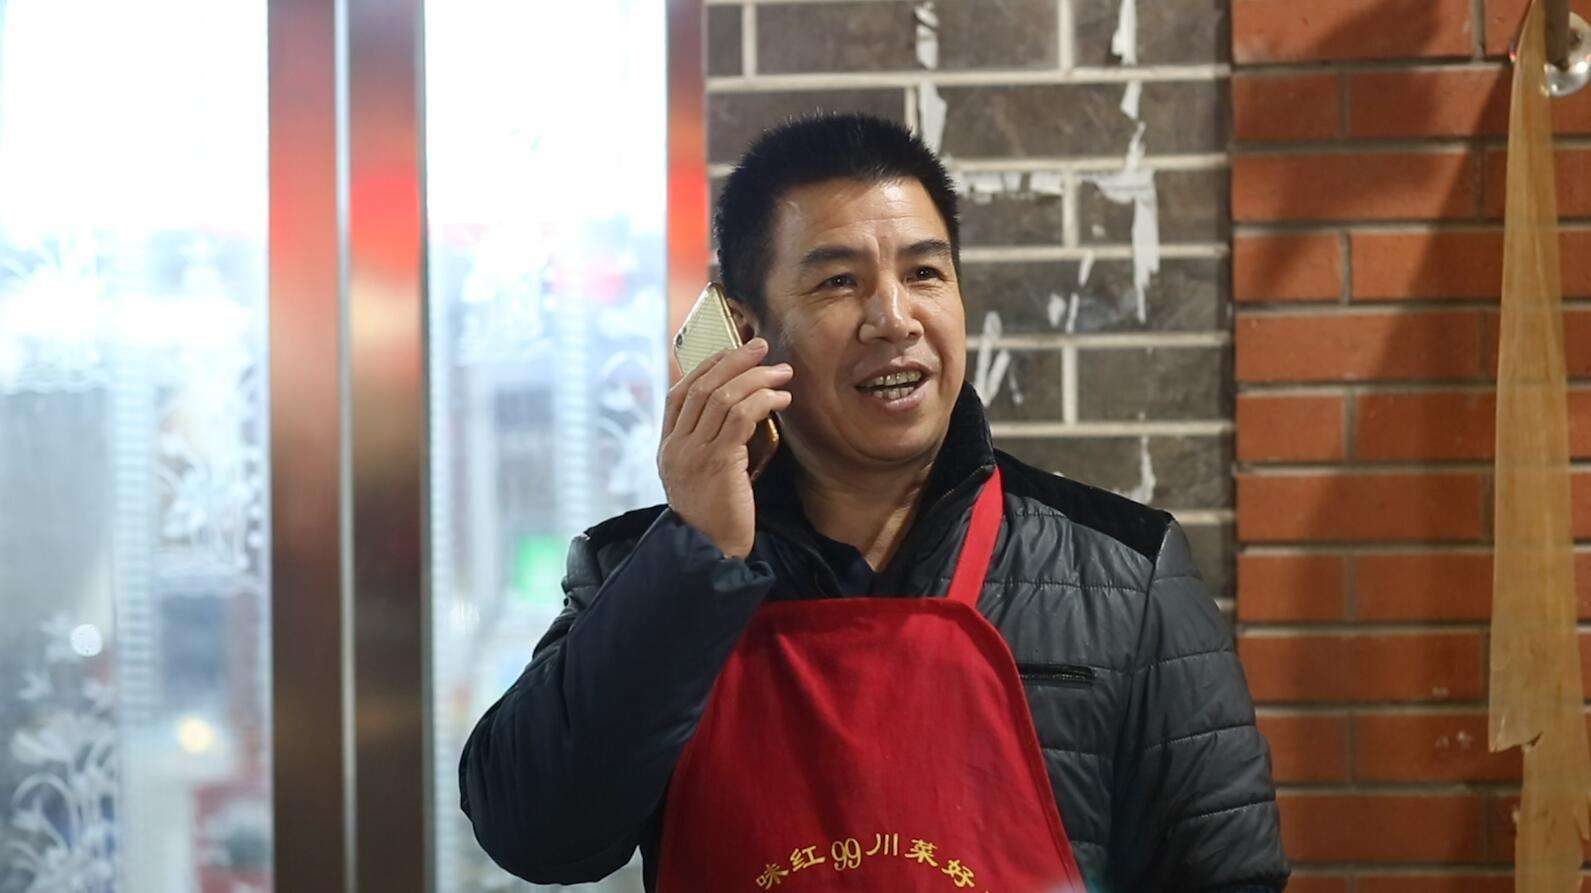calling: (650, 277, 795, 559)
